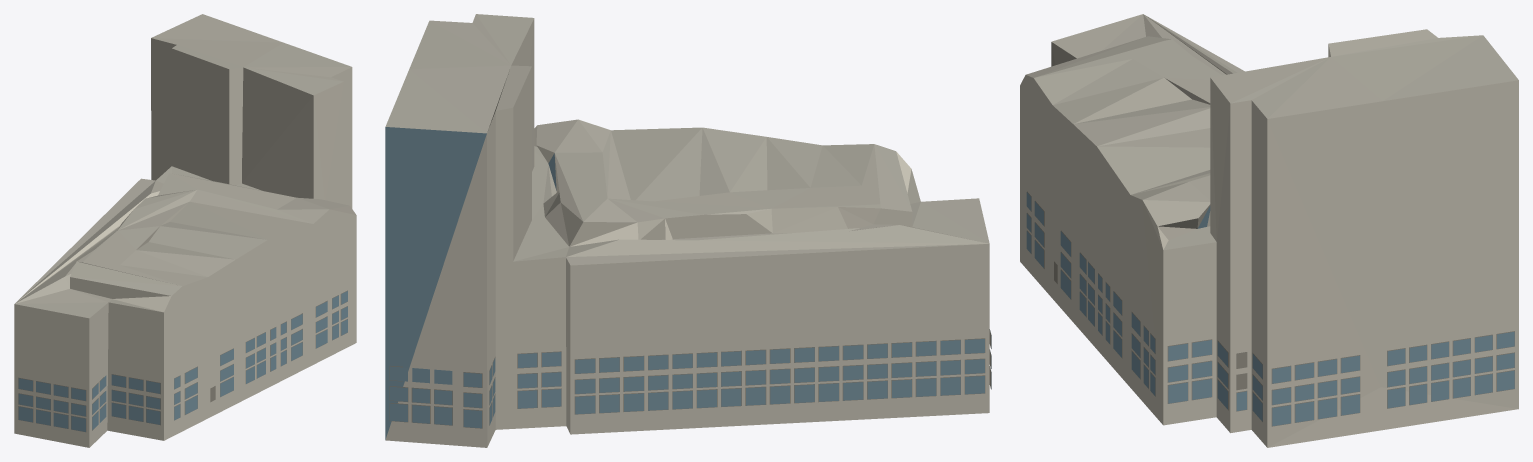
File: hva-rhijnspoorplein-2.lod2.glb
3 views of the same model, side by side, from view 1: azimuth 30°, elevation 25°; view 2: azimuth 150°, elevation 25°; view 3: azimuth 270°, elevation 25° (orthographic). The views are drawn at different scales.
Parts seen in each view (by area): view 1: lod2; view 2: lod2; view 3: lod2.
Part boxes in pixels (x1,y1,x2,y2): lod2: (14,14,356,447); lod2: (385,14,991,447); lod2: (1020,14,1518,447).
Bounding box in the file's own units: 90.58 × 55.5 × 74.48.
